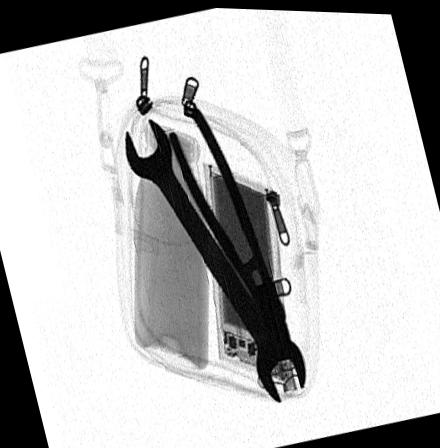Pliers: (166, 102, 293, 354)
Powerbank: (203, 159, 285, 382)
Wrench: (124, 115, 307, 400)
